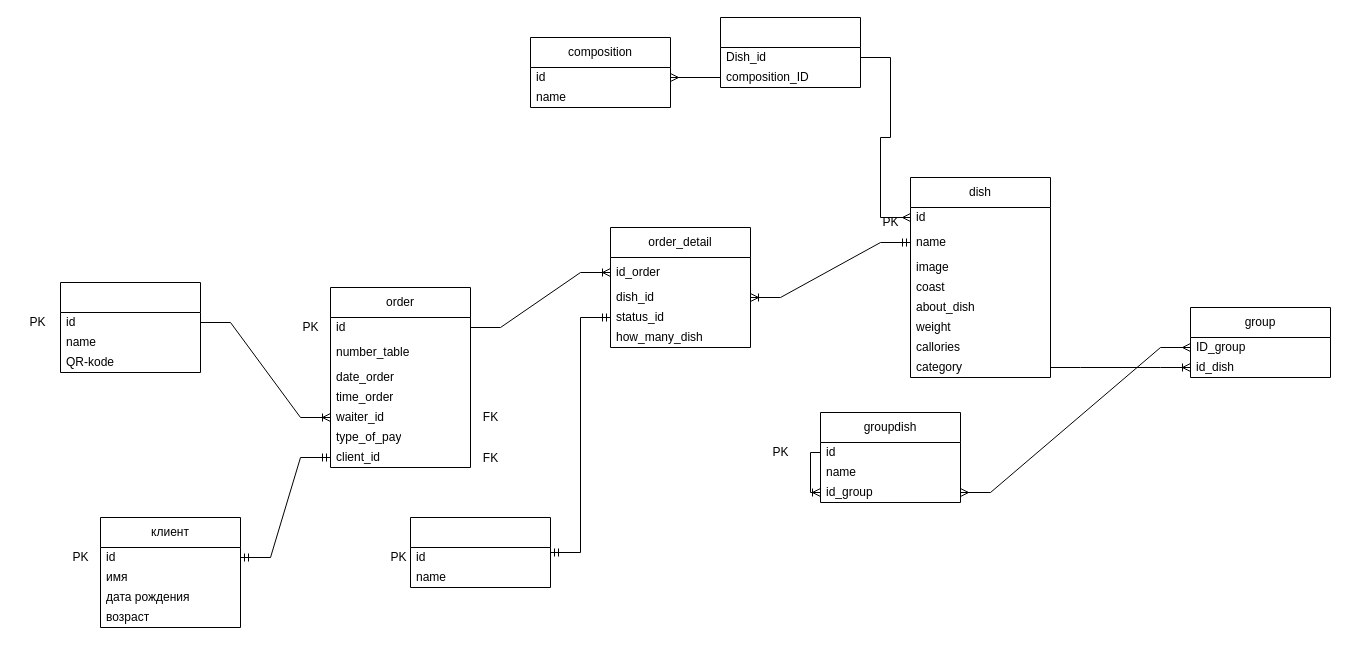
The diagram is 1348 pixels wide and 645 high, and some of its shapes have lost their labels. The box of each missing label's shape, as (x1, y1, x2, y2) in pixels:
compositionDish: (720, 16, 860, 88)
waiter: (60, 282, 200, 372)
статус: (410, 516, 550, 588)
